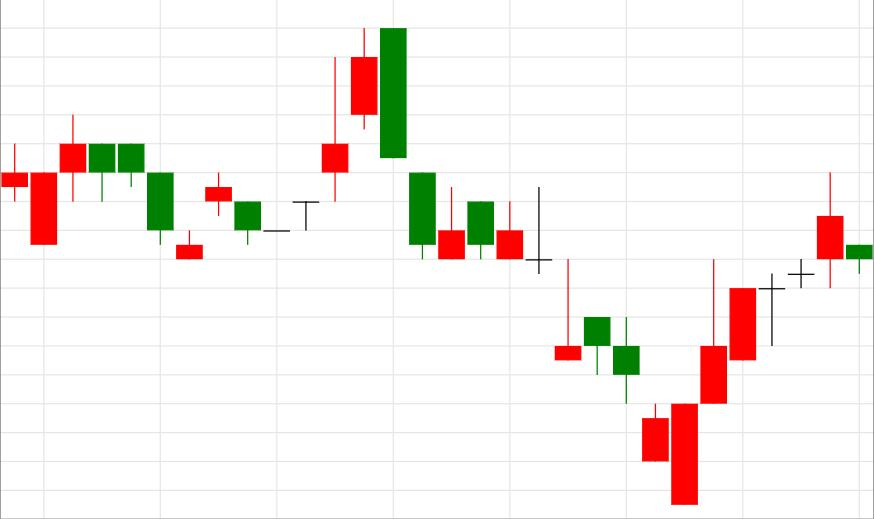bearish_engulfing_fall: (176, 28, 405, 259)
three_white_soldiers_rise: (467, 186, 756, 505)
